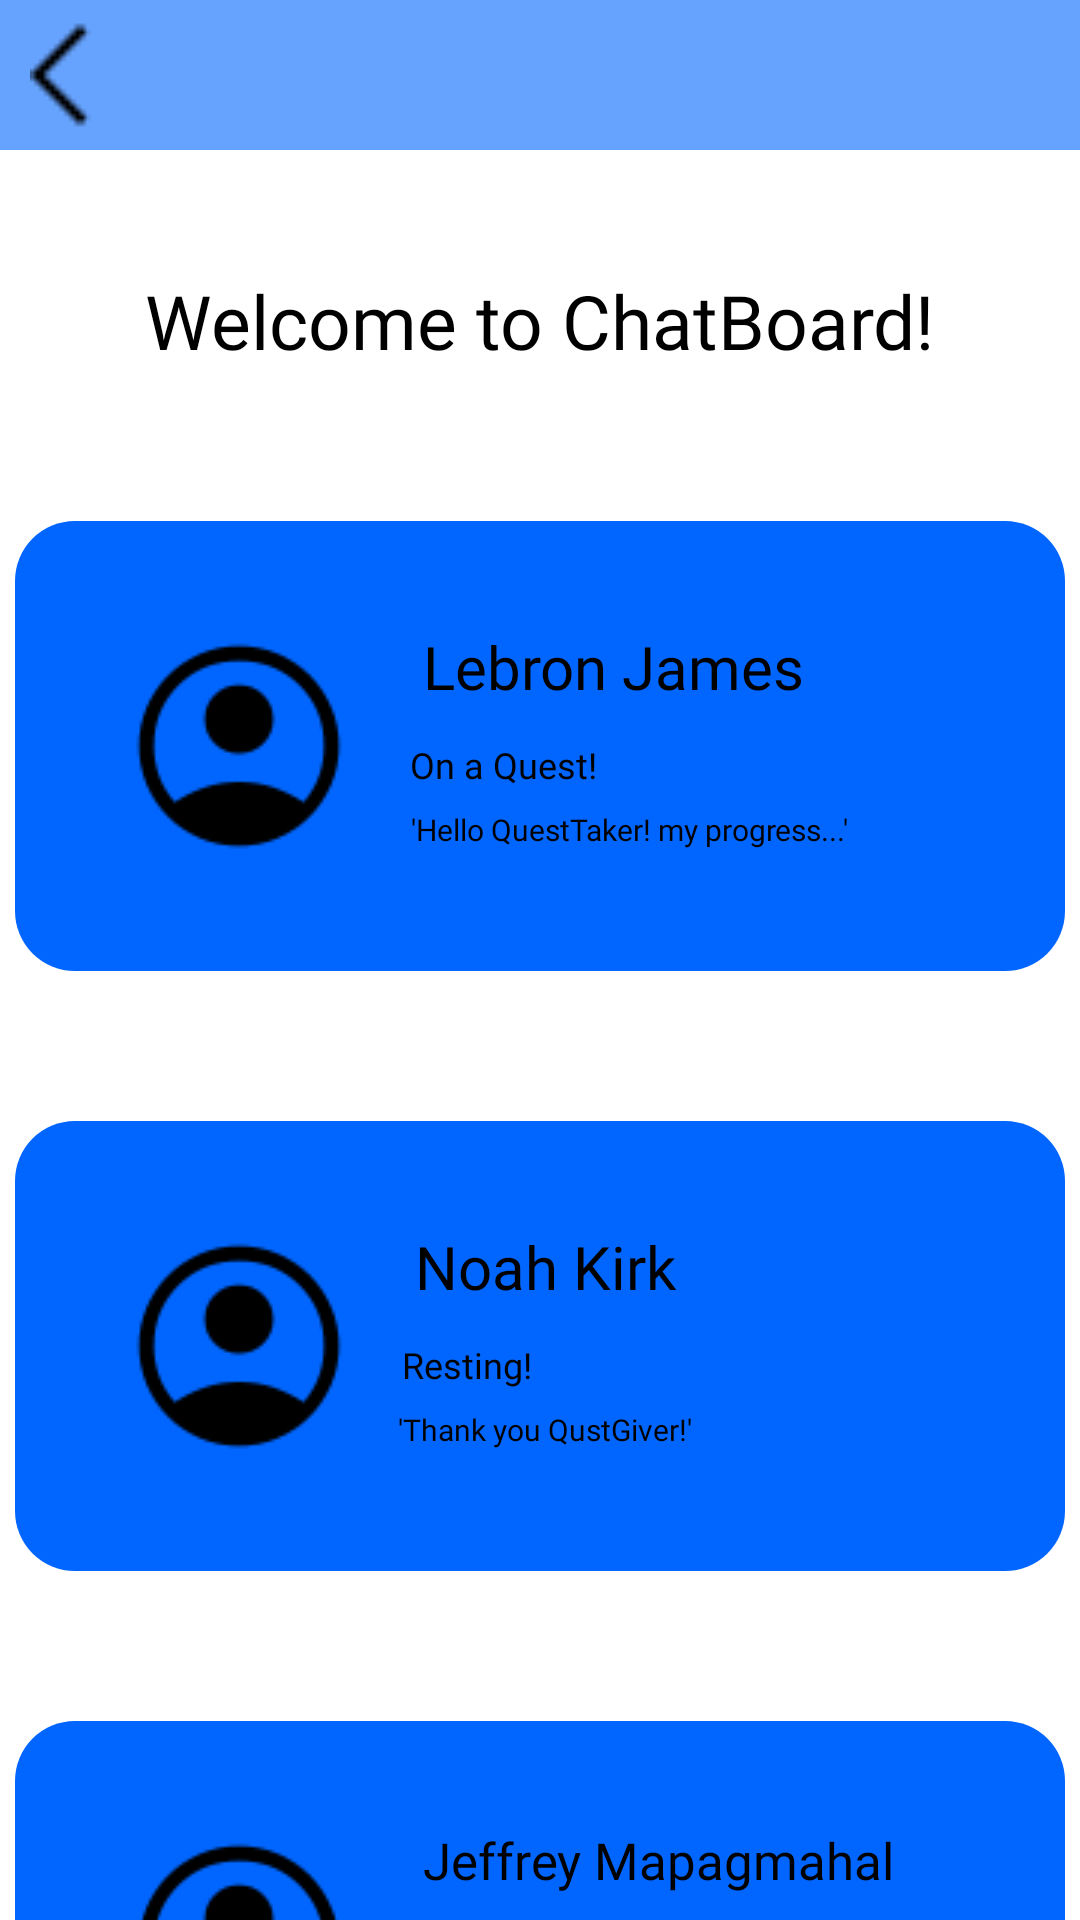

Where icons sit on this 1080w x 1920h app screen, as (x1, y1, x2, y2):
backarrow: (30, 24, 89, 126)
